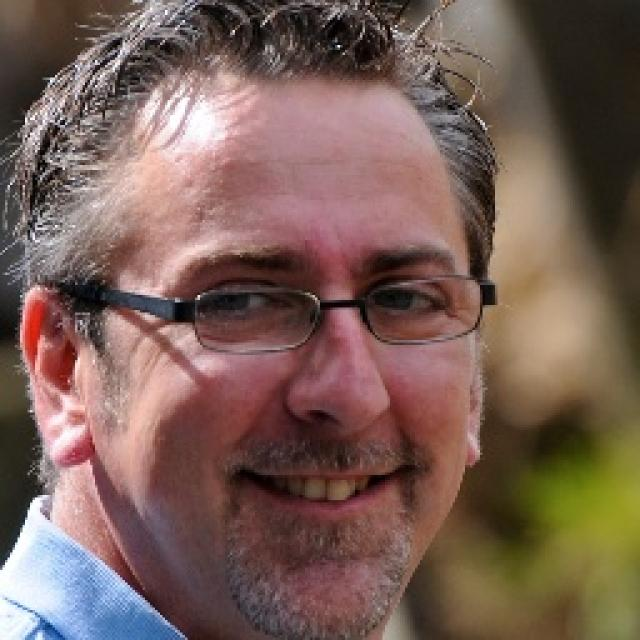earlobe: (35, 416, 97, 471)
eye: (194, 277, 286, 327), (365, 282, 453, 322)
nose: (287, 412, 386, 455)
wholeear: (23, 285, 96, 471)
